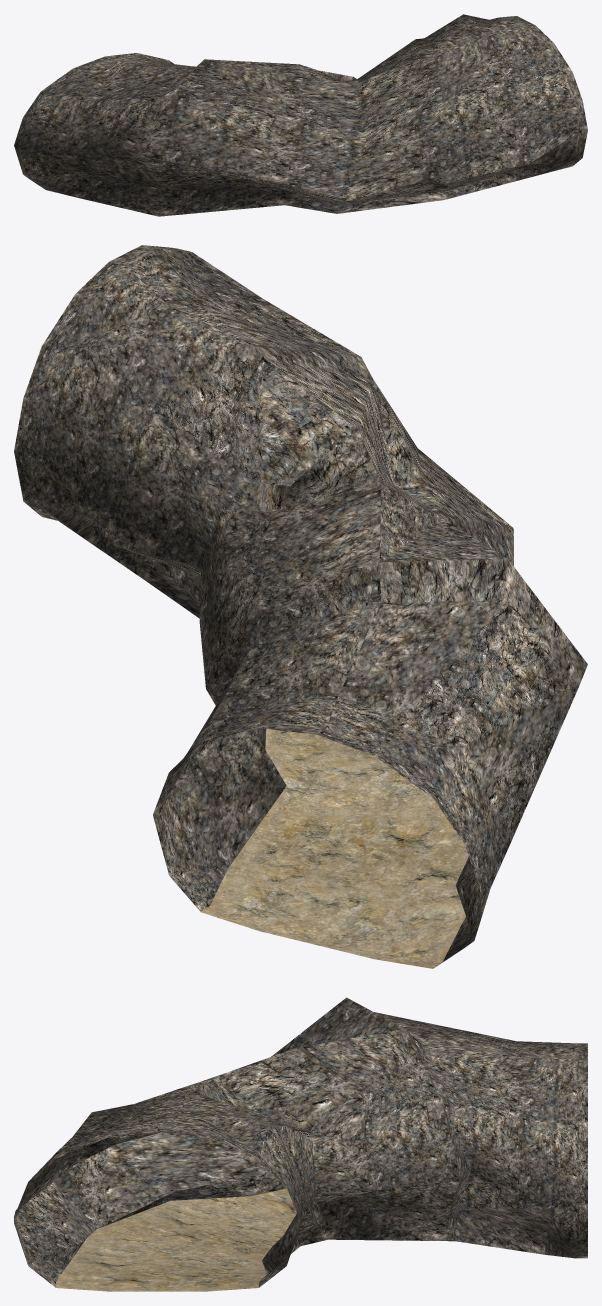
The model's file is pir_m_are_cav_curveWideRampLeft.fbx.
3 renders of one model, top to bottom at view 1: azimuth 30°, elevation 25°; view 2: azimuth 150°, elevation 25°; view 3: azimuth 270°, elevation 25°, orthographic. The views are drawn at different scales.
Parts seen in each view (by area): view 1: curveWide_wall; view 2: curveWide_wall, curveWide_floor; view 3: curveWide_wall, curveWide_floor.
Boxes of the visible parts, x1,y1,x2,y2 form: curveWide_wall: (14, 14, 587, 216); curveWide_wall: (14, 245, 587, 966); curveWide_floor: (201, 729, 468, 968); curveWide_wall: (14, 997, 587, 1287); curveWide_floor: (56, 1188, 296, 1291).
Bounding box in the file's own units: 20000 × 10325 × 20000.
2 materials, 2 textured.
